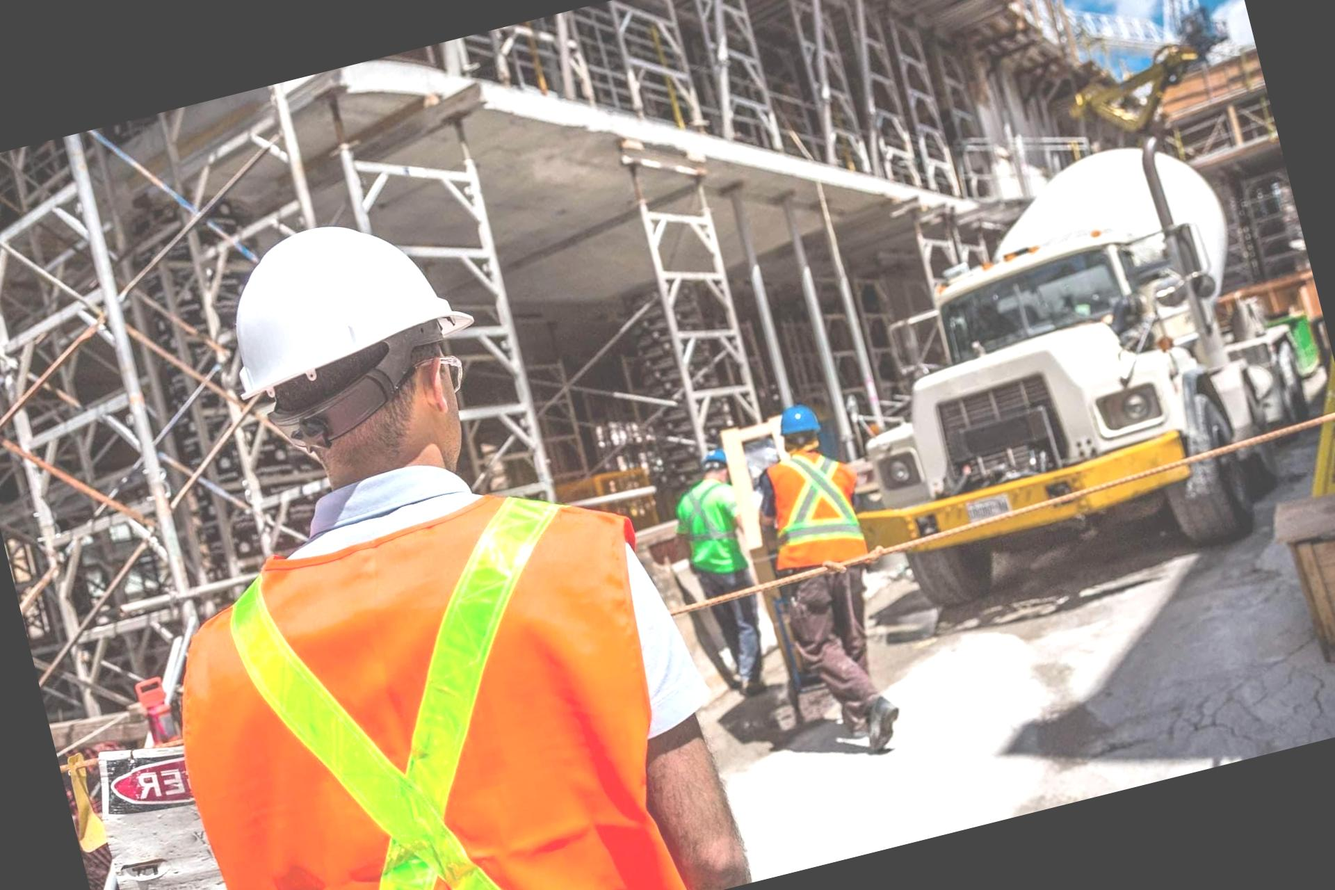helmet: (196, 186, 485, 414), (770, 397, 837, 466)
person: (72, 158, 727, 890), (713, 386, 934, 774)
